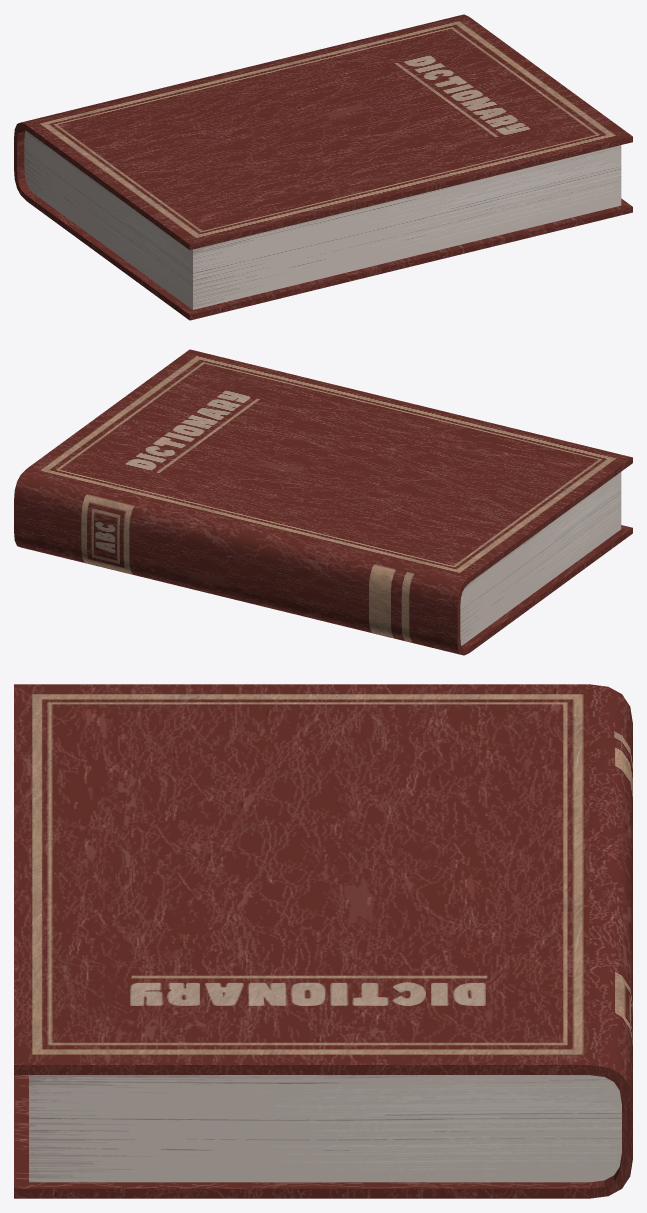
File: book 2.fbx
3 views of the same model, one above another, from view 1: azimuth 30°, elevation 25°; view 2: azimuth 150°, elevation 25°; view 3: azimuth 270°, elevation 25° (orthographic). The views are drawn at different scales.
Visible parts, largest first — view 1: Box001; view 2: Box001; view 3: Box001.
Boxes of the visible parts, bbox=[...] form: Box001: bbox=[14, 14, 632, 320]; Box001: bbox=[14, 349, 632, 655]; Box001: bbox=[14, 684, 632, 1198].
Size of the model in its own units: 65.96 by 10.8 by 45.33.
